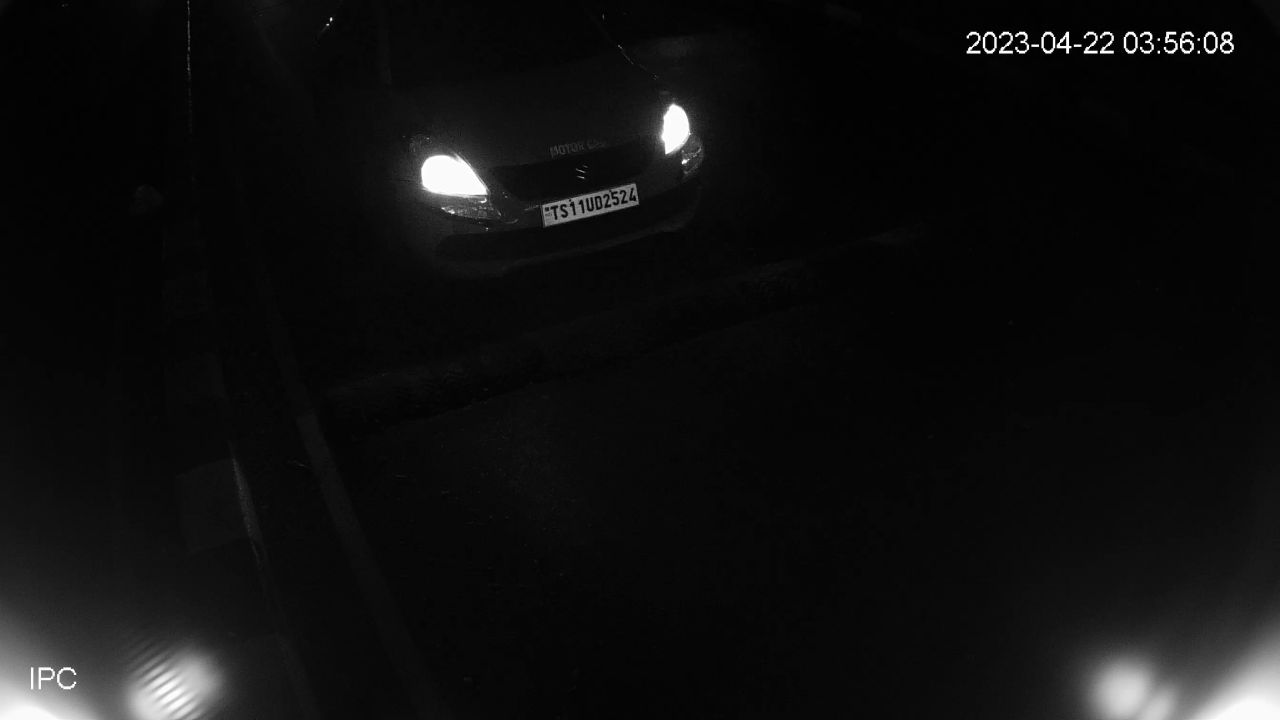license_plate: (538, 178, 643, 232)
